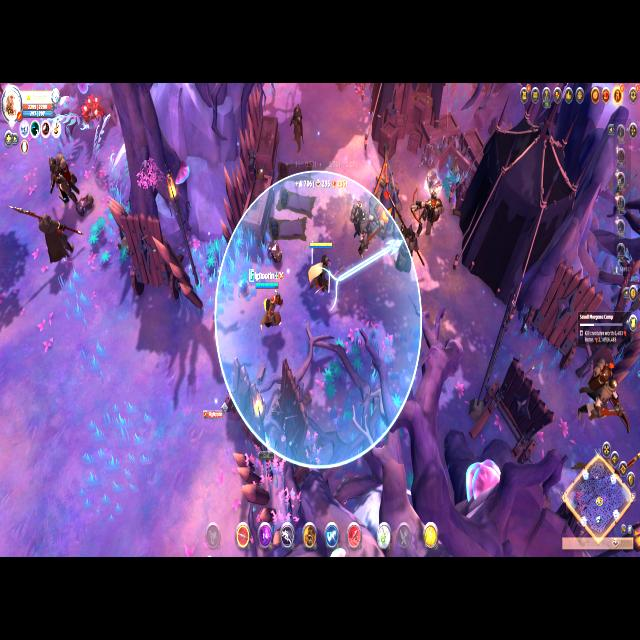hide: (76, 88, 110, 130)
ore: (7, 194, 82, 278), (574, 356, 632, 441), (47, 149, 85, 212), (408, 184, 446, 244), (358, 210, 386, 268), (352, 191, 372, 245), (289, 101, 308, 153)
red: (247, 267, 289, 335), (304, 237, 338, 303)
